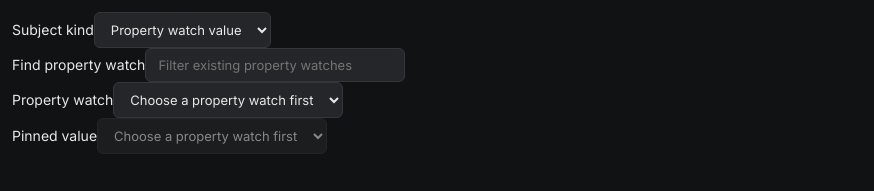
Test: custom-rule subject picker › says a just-pinned value is not listed yet, even when other pins are
Select "VPN usernames" in the dropdown labelled "Property watch" at (228, 100), box [113, 82, 343, 118]
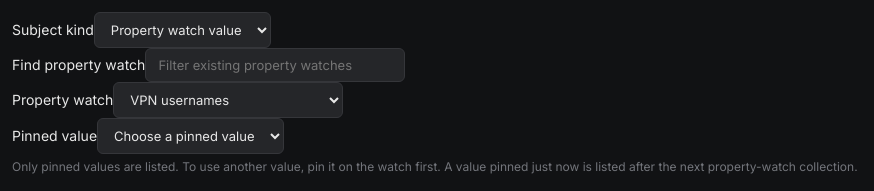
Expected: the text "pinned just now is listed after the next" is shown, [437, 159, 858, 174]
